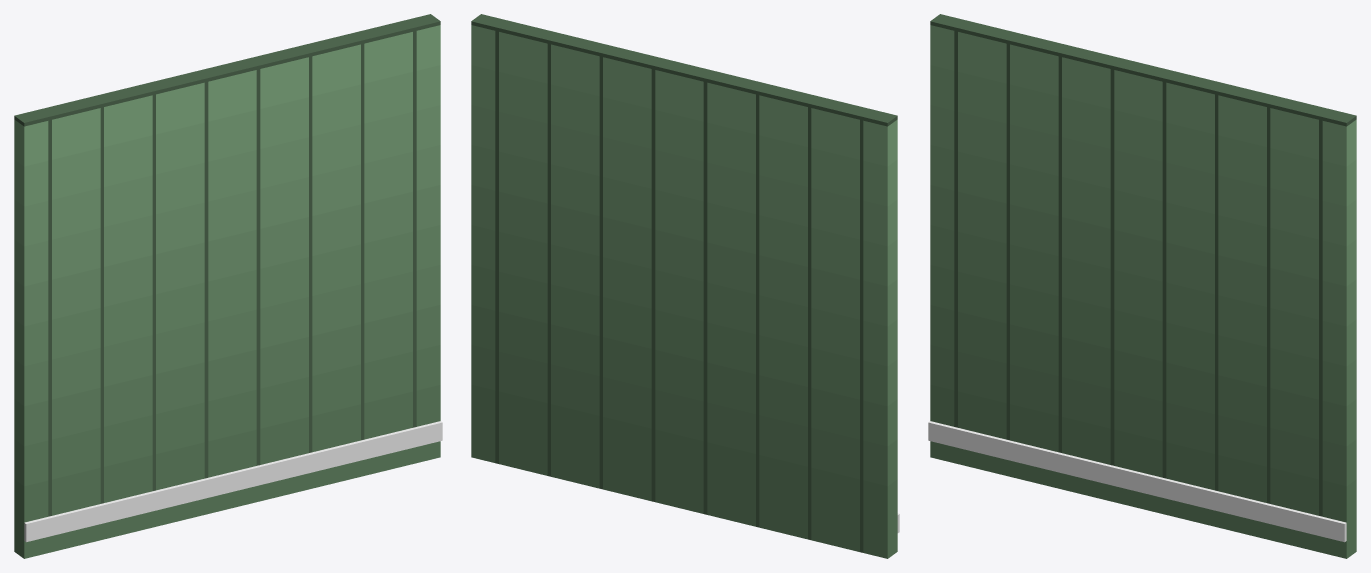
Rendered from wall11.obj.
3 views of the same model, side by side, from view 1: azimuth 30°, elevation 25°; view 2: azimuth 150°, elevation 25°; view 3: azimuth 330°, elevation 25° (orthographic).
Bounding box in the file's own units: 12 × 12 × 0.6.
1 material, 1 textured.
